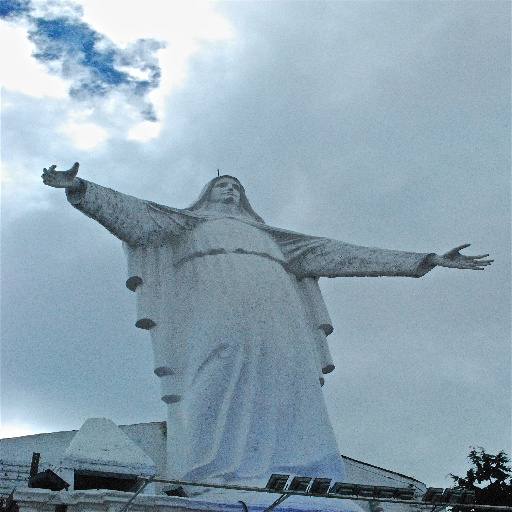hand: (434, 242, 493, 269), (41, 161, 79, 190)
